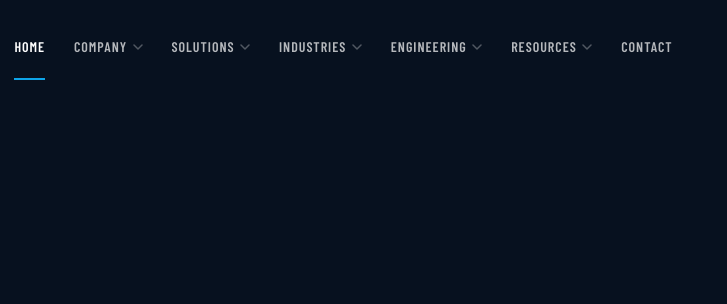
Test: Navigation › renders Engineering dropdown with 4 children when opened
Click the button "Engineering" at (436, 46), box [376,12,497,80]
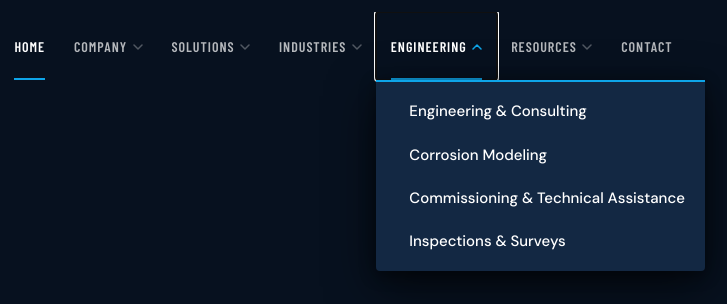
Now the link "Engineering & Consulting" is shown, box [409,101,587,121]
Now the link "Corrosion Modeling" is shown, box [409,145,547,165]
Now the link "Commissioning & Technical Assistance" is shown, box [409,188,685,208]
